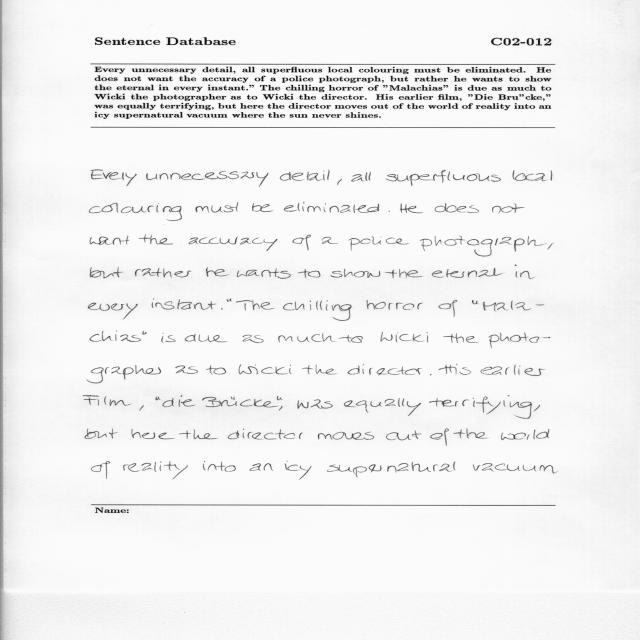word: (420, 236, 547, 257), (429, 395, 532, 419), (327, 462, 455, 478), (146, 171, 269, 187), (386, 170, 501, 186), (89, 203, 182, 221), (283, 300, 352, 321), (344, 398, 421, 416), (87, 366, 161, 384), (189, 237, 278, 251), (123, 461, 188, 479), (284, 202, 380, 213), (489, 333, 551, 348), (473, 463, 557, 474), (349, 236, 409, 251), (347, 364, 422, 376), (202, 396, 282, 407), (88, 303, 138, 319), (228, 429, 303, 439), (91, 170, 137, 186), (152, 299, 217, 310), (481, 365, 546, 376), (432, 268, 503, 278), (483, 301, 544, 311), (237, 268, 291, 279), (366, 300, 423, 310), (90, 331, 141, 342), (280, 170, 330, 181), (239, 365, 292, 375), (83, 395, 131, 406), (501, 429, 549, 440), (279, 334, 336, 343), (135, 268, 191, 277), (331, 268, 381, 278), (285, 461, 312, 479), (381, 332, 429, 342), (196, 202, 239, 213), (318, 432, 374, 440), (513, 170, 553, 181), (435, 203, 479, 213), (132, 429, 175, 439), (236, 300, 274, 311), (162, 395, 196, 407), (179, 430, 218, 440), (302, 364, 337, 375), (185, 334, 227, 343), (90, 267, 124, 278), (438, 364, 471, 375), (203, 461, 236, 472), (138, 235, 174, 245), (386, 431, 422, 441), (90, 236, 129, 245), (443, 333, 478, 343), (453, 429, 488, 439), (385, 269, 423, 278), (91, 461, 110, 479), (492, 204, 525, 214), (85, 429, 118, 439), (439, 300, 458, 317), (430, 429, 449, 446), (292, 235, 311, 250), (515, 265, 534, 279), (400, 204, 423, 214), (206, 267, 229, 277), (311, 399, 333, 409), (175, 365, 198, 374), (351, 172, 371, 182), (338, 335, 363, 343), (298, 269, 320, 278), (250, 463, 274, 471), (252, 203, 273, 212), (206, 366, 226, 375), (243, 335, 264, 343), (161, 333, 176, 343), (322, 237, 338, 244), (298, 400, 309, 409), (548, 243, 554, 250), (534, 405, 540, 412), (337, 179, 342, 185), (472, 300, 479, 304), (140, 405, 144, 411), (142, 331, 147, 335), (156, 397, 161, 401), (279, 406, 283, 411), (227, 299, 232, 302), (388, 210, 390, 212), (221, 308, 223, 310), (430, 374, 431, 375)
